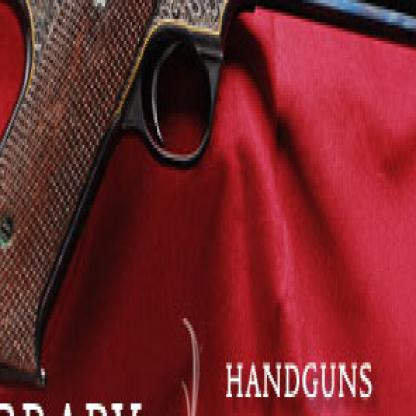gun: (0, 0, 415, 407)
